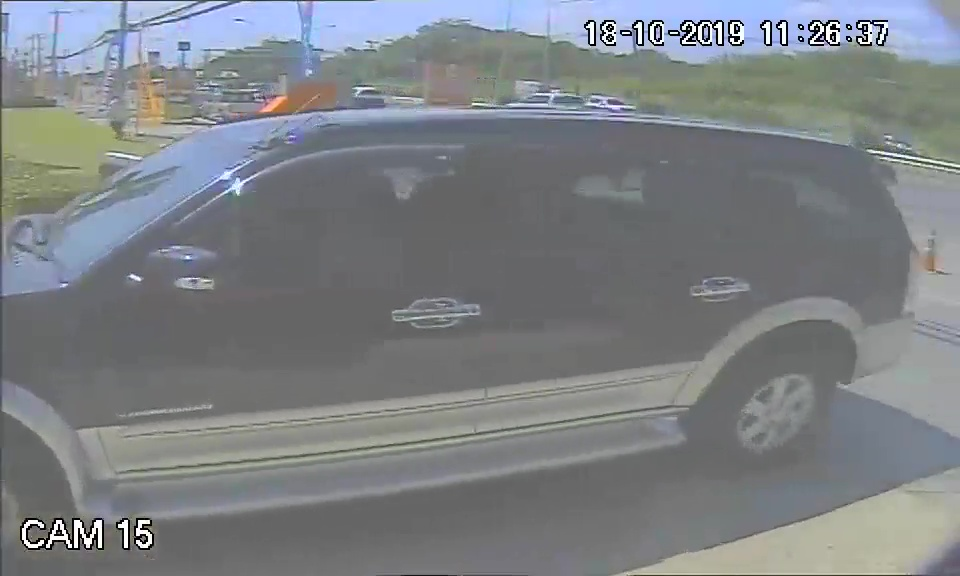pickup: (16, 101, 911, 517)
